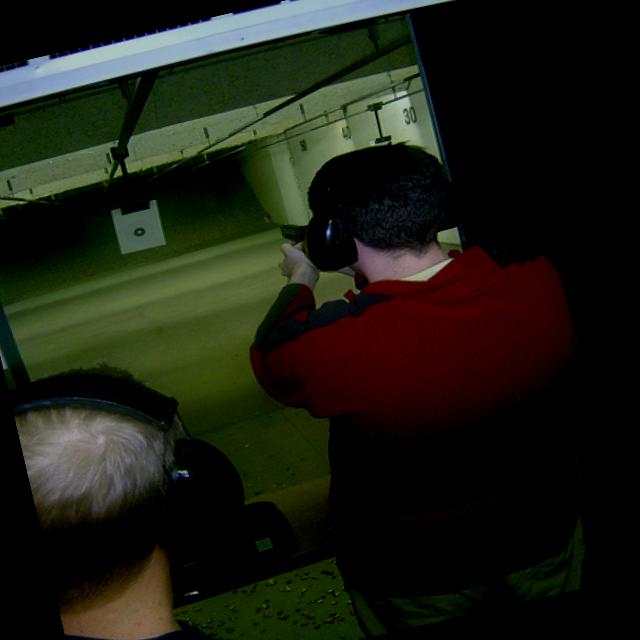handgun: (274, 214, 314, 266)
